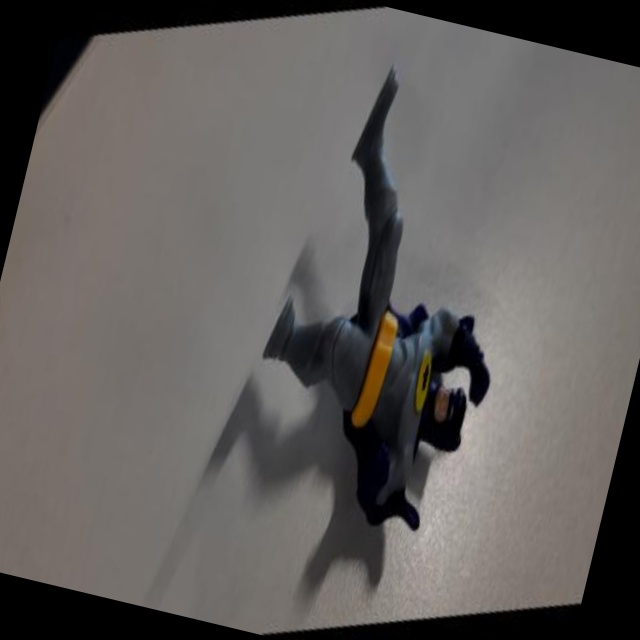Batman: (194, 0, 580, 604)
